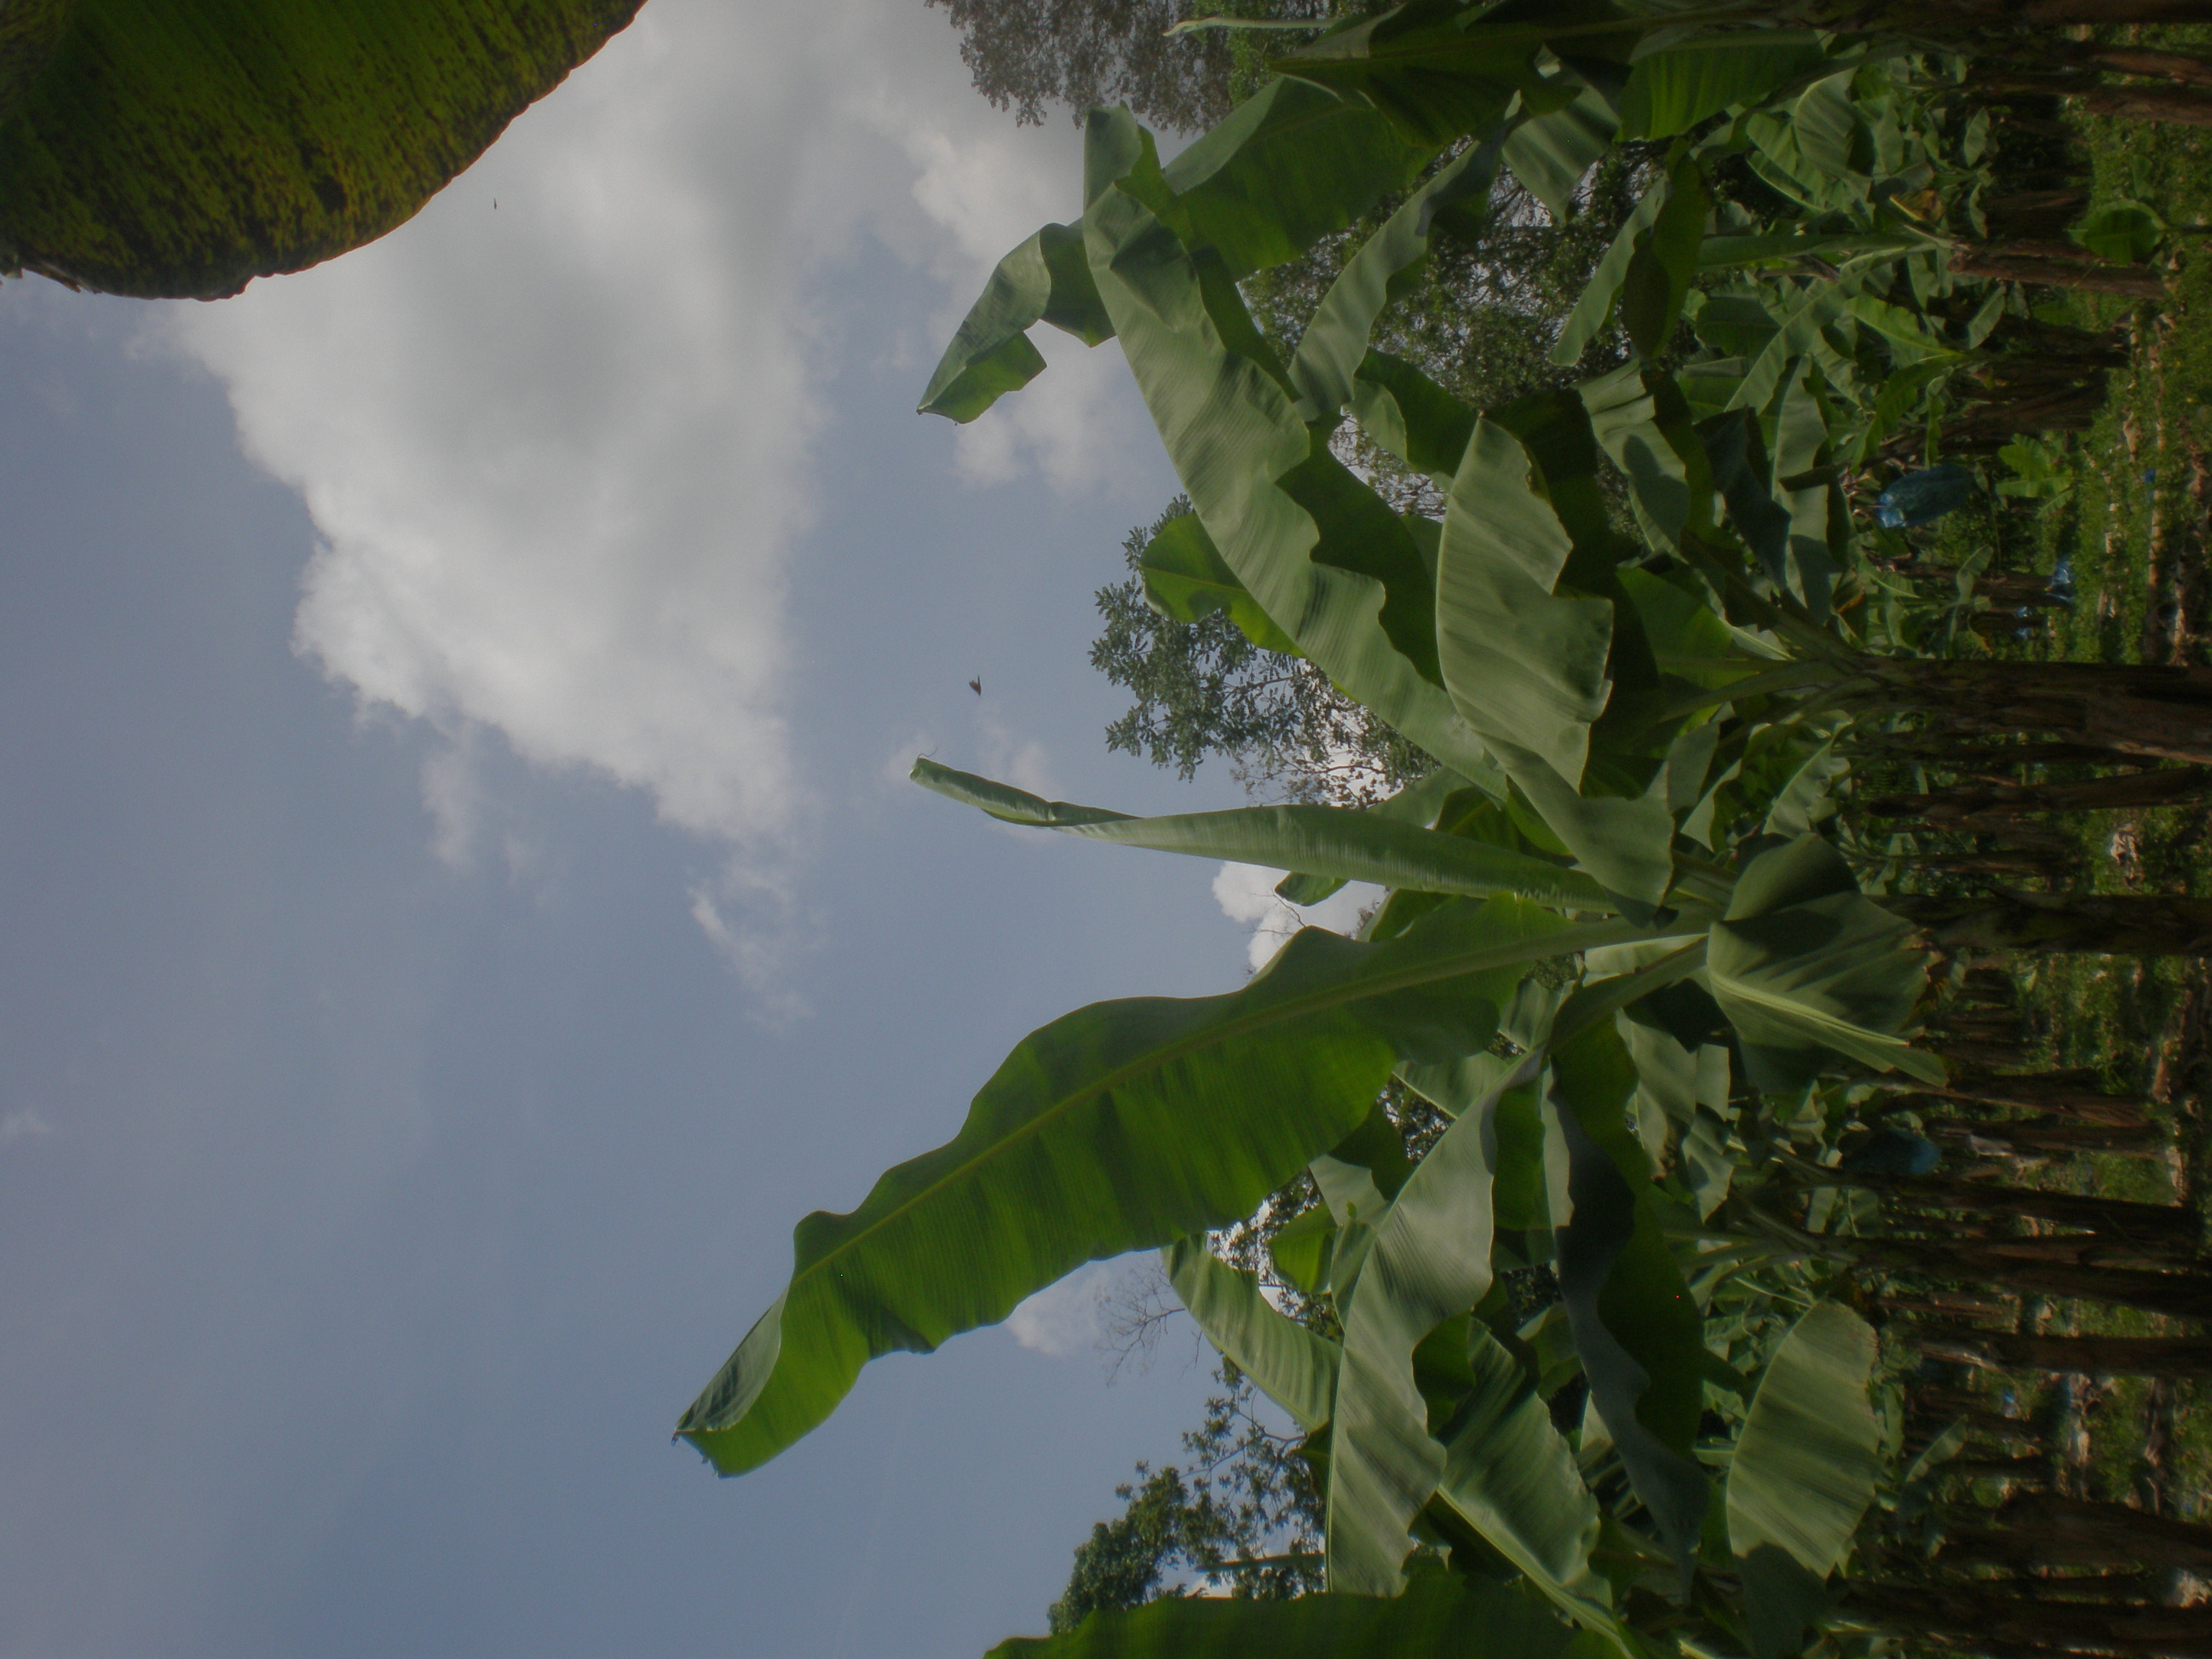candleleafs: (909, 760, 1559, 927)
